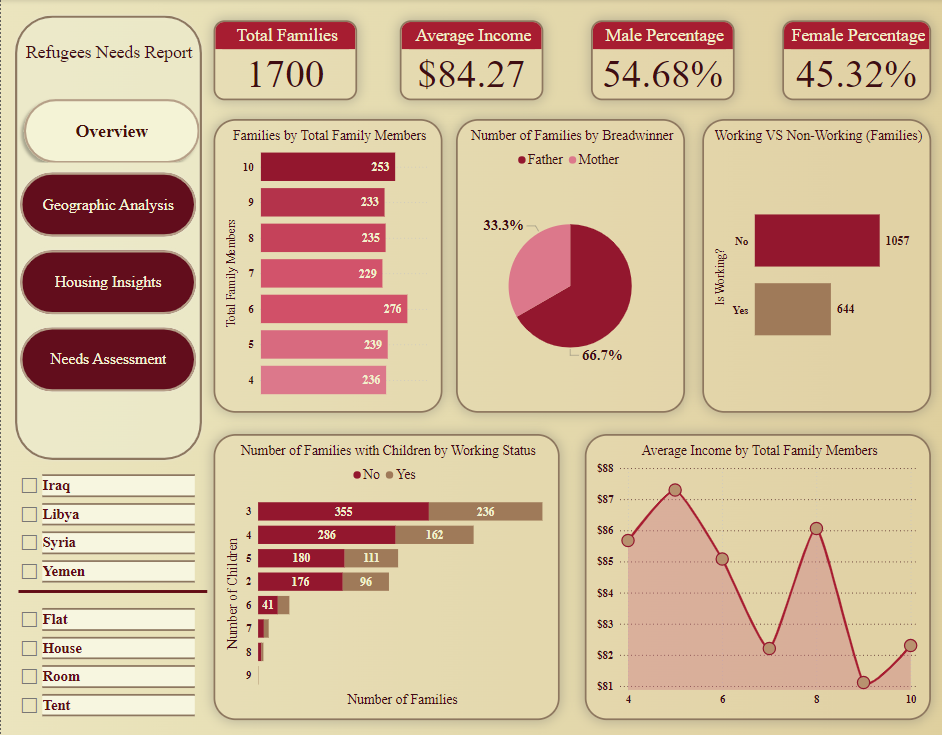

What the dashboard file says about the page in this screenshot:
{"tool":"powerbi","page":{"name":"Overview","canvas":[1280,1000],"ordinal":0},"visuals":[{"type":"card","title":"Male Percentage","fields":{"Values":["Measures_.Malepresentage"]},"box":[801.6,28.9,195.3,108.7],"z":0},{"type":"card","title":"Female Percentage","fields":{"Values":["Measures_.Femalepresentage"]},"box":[1061.5,28.9,202.1,108.7],"z":1000},{"type":"card","title":"Average Income","fields":{"Values":["Measures_.avg_income"]},"box":[541.8,28.9,195.3,108.7],"z":2000},{"type":"card","title":"Total Families","fields":{"Values":["Measures_.total_families"]},"box":[288.7,28.9,195.3,108.7],"z":3000},{"type":"shape","box":[15.3,18.7,261.6,611.4],"z":3500},{"type":"clusteredBarChart","title":"Families by Total Family Members","fields":{"Category":["Needs.Total_Family_Members"],"Y":["CountNonNull(Needs.Name)"]},"box":[288.7,163,310.8,399.1],"z":4000},{"type":"pieChart","title":"Number of Families by Breadwinner","fields":{"Category":["Needs.Breadwinner"],"Y":["Count(Needs.Name)"]},"box":[618.2,163,310.8,399.1],"z":7000},{"type":"clusteredBarChart","title":"Working VS Non-Working (Families)","fields":{"Category":["Needs.Is Working?"],"Y":["CountNonNull(Needs.Name)"]},"box":[952.8,163,310.8,399.1],"z":8000},{"type":"barChart","title":"Number of Families with Children by Working Status","fields":{"Category":["Needs.Under 18 "],"Y":["Count(Needs.Index)"],"Series":["Needs.Is Working?"]},"box":[288.7,591,470,388.9],"z":9000},{"type":"lineChart","title":"Average Income by Total Family Members","fields":{"Category":["Needs.Total_Family_Members"],"Y":["Avg(Needs.Income)"]},"box":[793,591,470,388.9],"z":10000},{"type":"slicer","fields":{"Values":["Needs.Country"]},"box":[15.3,636.9,253.1,168.1],"z":11000},{"type":"slicer","fields":{"Values":["Needs.House"]},"box":[15,818,253,168],"z":12000},{"type":"shape","box":[23.8,798,256.5,13.6],"z":13000},{"type":"textbox","box":[22.1,54.3,249.7,42.5],"z":13500},{"type":"pageNavigator","box":[22.1,107,248,433.1],"z":14000}]}

Visuals, with their boxes in screenshot pixels (x1, y1, x2, y2), scaled from the page's 1280x1000 canvas onto the 942x735 screenshot:
"Male Percentage" card: region(590, 21, 734, 101)
"Female Percentage" card: region(781, 21, 930, 101)
"Average Income" card: region(399, 21, 542, 101)
"Total Families" card: region(212, 21, 356, 101)
shape: region(11, 14, 204, 463)
"Families by Total Family Members" clusteredBarChart: region(212, 120, 441, 413)
"Number of Families by Breadwinner" pieChart: region(455, 120, 684, 413)
"Working VS Non-Working (Families)" clusteredBarChart: region(701, 120, 930, 413)
"Number of Families with Children by Working Status" barChart: region(212, 434, 558, 720)
"Average Income by Total Family Members" lineChart: region(584, 434, 929, 720)
slicer - Needs.Country: region(11, 468, 198, 592)
slicer - Needs.House: region(11, 601, 197, 725)
shape: region(18, 587, 206, 597)
textbox: region(16, 40, 200, 71)
pageNavigator: region(16, 79, 199, 397)
